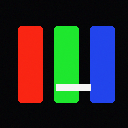3 line_h: (56, 84, 90, 90)
